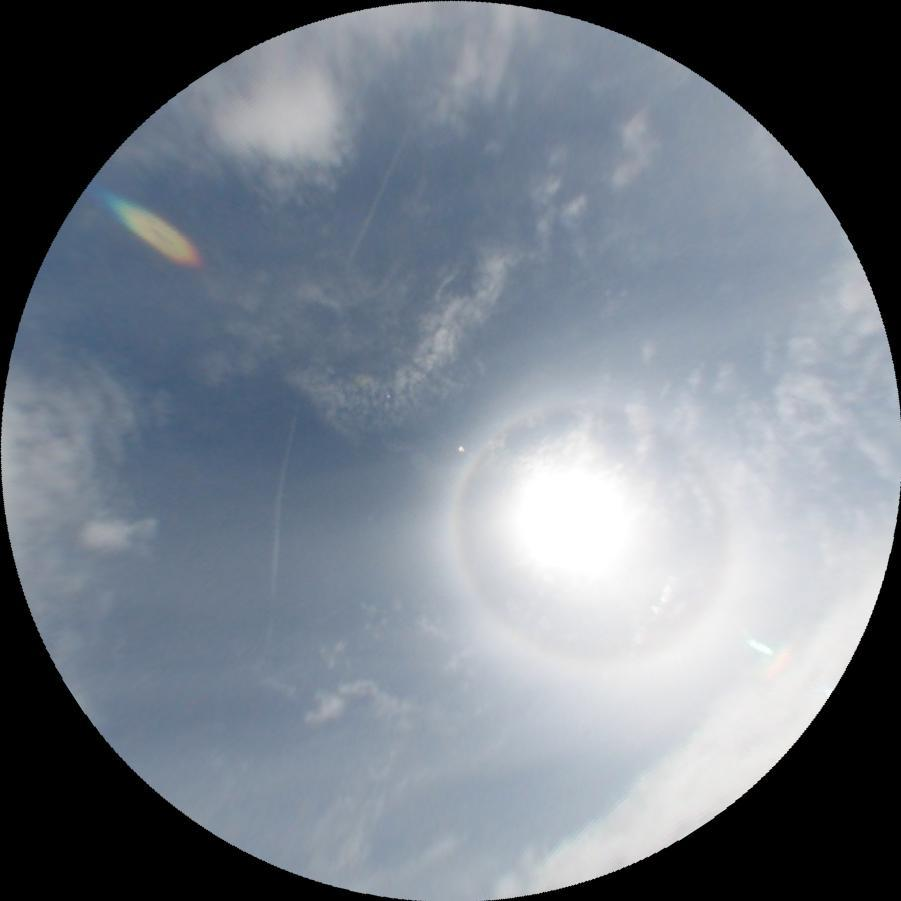contrail young: (231, 114, 414, 651)
sun: (504, 454, 638, 583)
